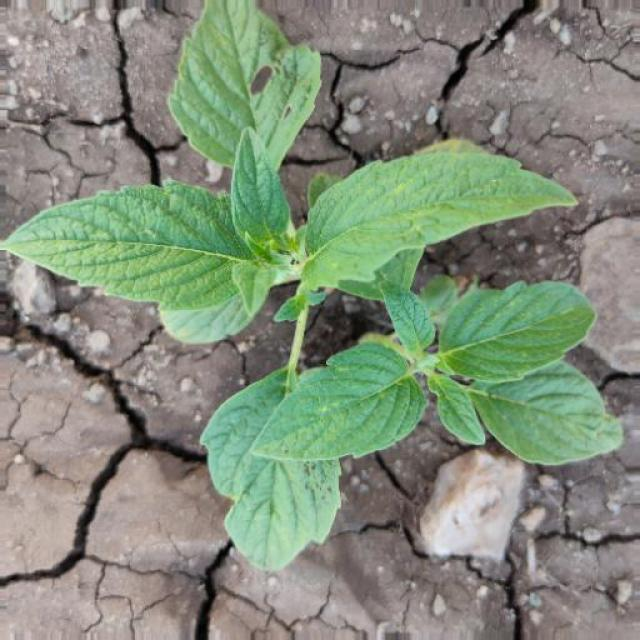crop: (1, 24, 631, 580)
